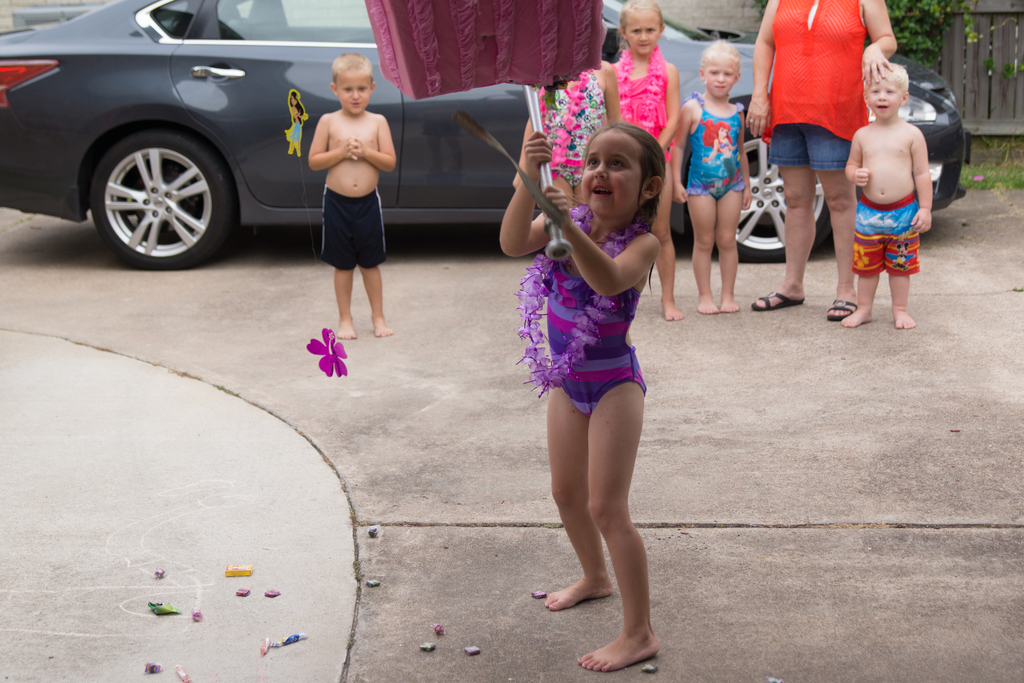cars: (0, 0, 972, 271)
